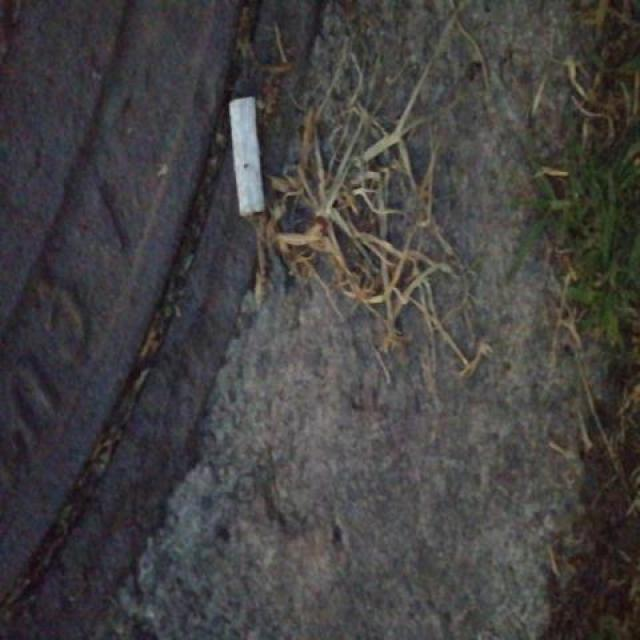non-organic waste: (221, 92, 270, 223)
